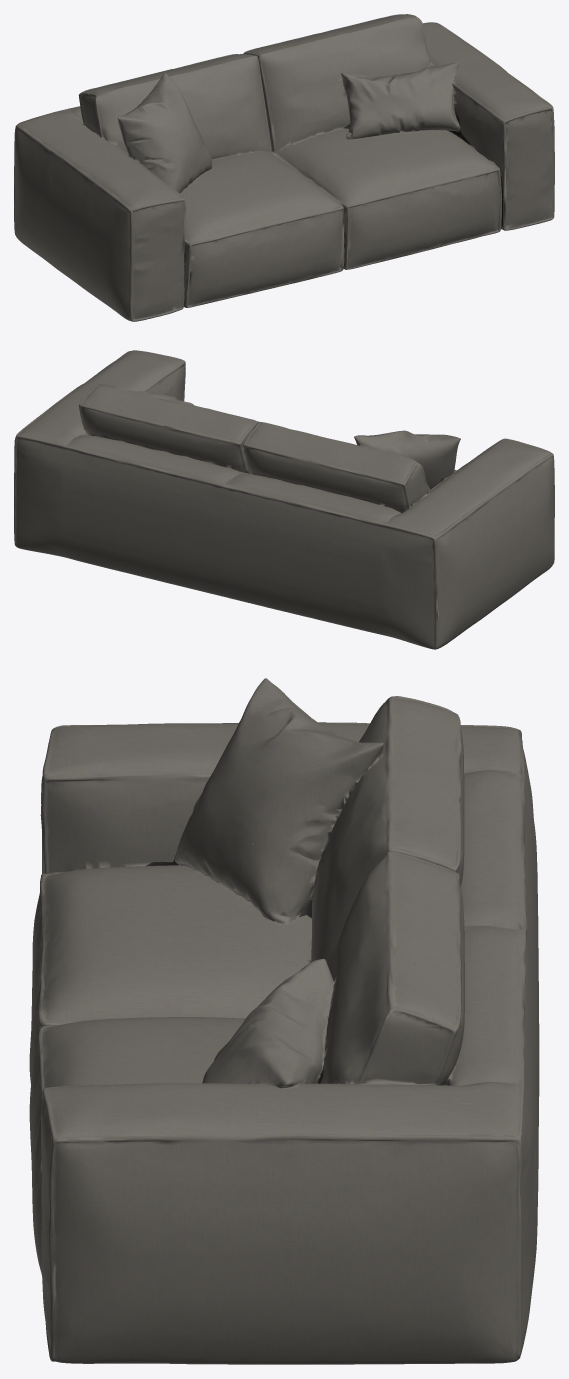
3 renders of one model, top to bottom at view 1: azimuth 30°, elevation 25°; view 2: azimuth 150°, elevation 25°; view 3: azimuth 270°, elevation 25°, orthographic. The views are drawn at different scales.
Parts seen in each view (by area): view 1: tripo_node_9853751f-a1ed-4f47-83fc-a71f03a51f0d; view 2: tripo_node_9853751f-a1ed-4f47-83fc-a71f03a51f0d; view 3: tripo_node_9853751f-a1ed-4f47-83fc-a71f03a51f0d.
Part boxes in pixels (x1=…): tripo_node_9853751f-a1ed-4f47-83fc-a71f03a51f0d: x1=14, y1=14, x2=554, y2=321; tripo_node_9853751f-a1ed-4f47-83fc-a71f03a51f0d: x1=14, y1=350, x2=554, y2=649; tripo_node_9853751f-a1ed-4f47-83fc-a71f03a51f0d: x1=29, y1=678, x2=539, y2=1364.
Bounding box in the file's own units: 2 × 0.7 × 0.9999.
2 materials, 2 textured.
